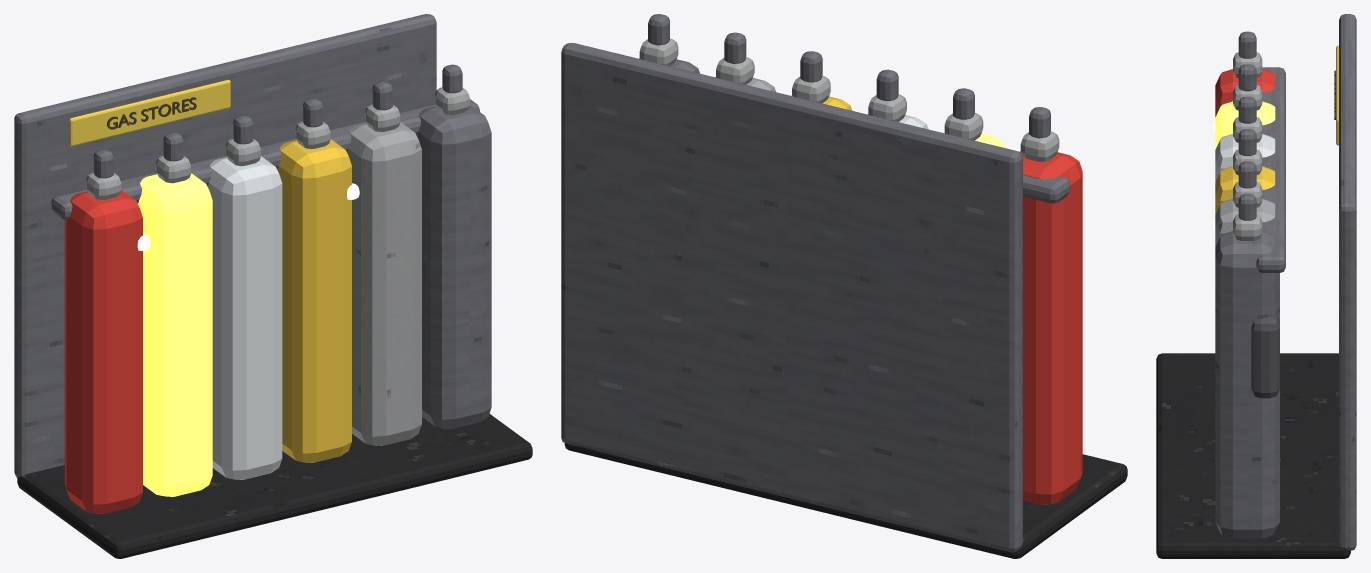
Rendered from decor_eng_gas_canister_rack.glb.
3 renders of one model, left to right at view 1: azimuth 30°, elevation 25°; view 2: azimuth 150°, elevation 25°; view 3: azimuth 270°, elevation 25°, orthographic. The views are drawn at different scales.
Parts seen in each view (by area): view 1: DEC_EngGasCanisterRack__Rack_Back, DEC_EngGasCanisterRack__Rack_Base, DEC_EngGasCanisterRack__Canister_Body_1, DEC_EngGasCanisterRack__Canister_Body_3, DEC_EngGasCanisterRack__Canister_Body_6, DEC_EngGasCanisterRack__Canister_Body_4, DEC_EngGasCanisterRack__Canister_Body_2, DEC_EngGasCanisterRack__Canister_Body_5, DEC_EngGasCanisterRack__Header_Band, DEC_EngGasCanisterRack__Rack_Rail_Top, DEC_EngGasCanisterRack__Canister_Cap_4, DEC_EngGasCanisterRack__Canister_Cap_1 (+5 smaller); view 2: DEC_EngGasCanisterRack__Rack_Back, DEC_EngGasCanisterRack__Canister_Body_1, DEC_EngGasCanisterRack__Rack_Base, DEC_EngGasCanisterRack__Rack_Rail_Top, DEC_EngGasCanisterRack__Canister_Cap_1, DEC_EngGasCanisterRack__Canister_Cap_2, DEC_EngGasCanisterRack__Canister_Cap_6, DEC_EngGasCanisterRack__Canister_Cap_4, DEC_EngGasCanisterRack__Canister_Cap_5, DEC_EngGasCanisterRack__Canister_Cap_3; view 3: DEC_EngGasCanisterRack__Rack_Base, DEC_EngGasCanisterRack__Canister_Body_6, DEC_EngGasCanisterRack__Rack_Back, DEC_EngGasCanisterRack__Rack_Rail_Top, DEC_EngGasCanisterRack__Regulator_Body, DEC_EngGasCanisterRack__Canister_Body_2, DEC_EngGasCanisterRack__Canister_Body_1, DEC_EngGasCanisterRack__Canister_Body_5, DEC_EngGasCanisterRack__Canister_Body_3, DEC_EngGasCanisterRack__Canister_Body_4, DEC_EngGasCanisterRack__Canister_Cap_6, DEC_EngGasCanisterRack__Canister_Valve_3 (+11 smaller).
Part boxes in pixels (x1=…): DEC_EngGasCanisterRack__Rack_Back: x1=14, y1=14, x2=436, y2=477; DEC_EngGasCanisterRack__Rack_Base: x1=17, y1=413, x2=532, y2=558; DEC_EngGasCanisterRack__Canister_Body_1: x1=64, y1=190, x2=142, y2=513; DEC_EngGasCanisterRack__Canister_Body_3: x1=207, y1=156, x2=282, y2=479; DEC_EngGasCanisterRack__Canister_Body_6: x1=416, y1=105, x2=491, y2=428; DEC_EngGasCanisterRack__Canister_Body_4: x1=277, y1=139, x2=351, y2=462; DEC_EngGasCanisterRack__Canister_Body_2: x1=137, y1=173, x2=212, y2=496; DEC_EngGasCanisterRack__Canister_Body_5: x1=347, y1=122, x2=421, y2=445; DEC_EngGasCanisterRack__Header_Band: x1=69, y1=79, x2=230, y2=146; DEC_EngGasCanisterRack__Rack_Rail_Top: x1=51, y1=99, x2=479, y2=219; DEC_EngGasCanisterRack__Canister_Cap_4: x1=295, y1=121, x2=330, y2=149; DEC_EngGasCanisterRack__Canister_Cap_1: x1=86, y1=172, x2=121, y2=200; DEC_EngGasCanisterRack__Rack_Back: x1=561, y1=42, x2=1022, y2=552; DEC_EngGasCanisterRack__Canister_Body_1: x1=1019, y1=151, x2=1082, y2=504; DEC_EngGasCanisterRack__Rack_Base: x1=564, y1=443, x2=1127, y2=558; DEC_EngGasCanisterRack__Rack_Rail_Top: x1=1023, y1=175, x2=1070, y2=203; DEC_EngGasCanisterRack__Canister_Cap_1: x1=1020, y1=131, x2=1059, y2=161; DEC_EngGasCanisterRack__Canister_Cap_2: x1=944, y1=113, x2=983, y2=140; DEC_EngGasCanisterRack__Canister_Cap_6: x1=639, y1=38, x2=678, y2=66; DEC_EngGasCanisterRack__Canister_Cap_4: x1=792, y1=76, x2=830, y2=103; DEC_EngGasCanisterRack__Canister_Cap_5: x1=716, y1=57, x2=754, y2=84; DEC_EngGasCanisterRack__Canister_Cap_3: x1=868, y1=94, x2=906, y2=121; DEC_EngGasCanisterRack__Rack_Base: x1=1156, y1=353, x2=1350, y2=558; DEC_EngGasCanisterRack__Canister_Body_6: x1=1215, y1=231, x2=1279, y2=538; DEC_EngGasCanisterRack__Rack_Back: x1=1339, y1=14, x2=1356, y2=550; DEC_EngGasCanisterRack__Rack_Rail_Top: x1=1256, y1=67, x2=1285, y2=272; DEC_EngGasCanisterRack__Regulator_Body: x1=1251, y1=317, x2=1279, y2=398; DEC_EngGasCanisterRack__Canister_Body_2: x1=1215, y1=101, x2=1275, y2=149; DEC_EngGasCanisterRack__Canister_Body_1: x1=1215, y1=69, x2=1275, y2=116; DEC_EngGasCanisterRack__Canister_Body_5: x1=1215, y1=198, x2=1275, y2=246; DEC_EngGasCanisterRack__Canister_Body_3: x1=1215, y1=134, x2=1275, y2=181; DEC_EngGasCanisterRack__Canister_Body_4: x1=1215, y1=166, x2=1275, y2=214; DEC_EngGasCanisterRack__Canister_Cap_6: x1=1233, y1=214, x2=1262, y2=240; DEC_EngGasCanisterRack__Canister_Valve_3: x1=1238, y1=96, x2=1256, y2=123.
Bounding box in the file's own units: 1.57 × 1.33 × 0.68.
11 materials, 4 textured.
